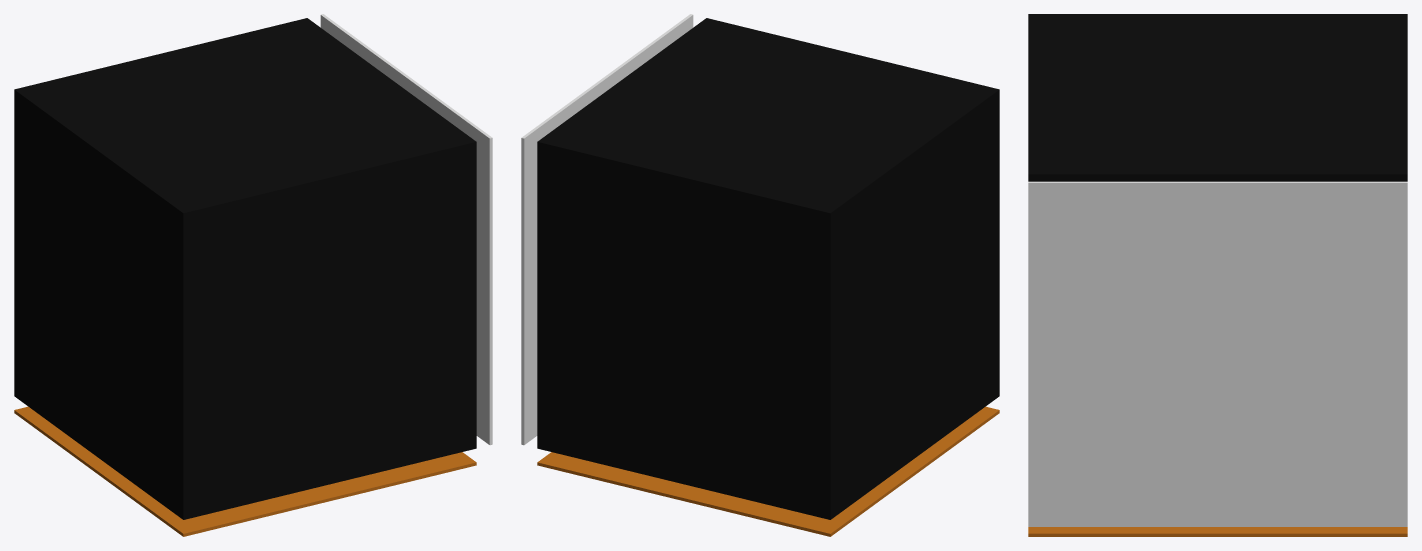
The picture shows the model from 3 angles, left to right: view 1: azimuth 30°, elevation 25°; view 2: azimuth 150°, elevation 25°; view 3: azimuth 270°, elevation 25°; orthographic projection. The views are drawn at different scales.
Parts seen in each view (by area): view 1: Cube, red-1, white-3; view 2: Cube, red-1, white-3; view 3: white-3, Cube, red-1.
Part boxes in pixels (box(x1,y1,x2,y2)): Cube: box(14, 18, 476, 519); red-1: box(14, 406, 476, 536); white-3: box(320, 14, 492, 445); Cube: box(537, 18, 999, 519); red-1: box(537, 406, 999, 536); white-3: box(521, 14, 693, 445); white-3: box(1028, 181, 1407, 526); Cube: box(1028, 14, 1407, 181); red-1: box(1028, 527, 1407, 536).
Size of the model in its own units: 2.11 by 2.11 by 2.
